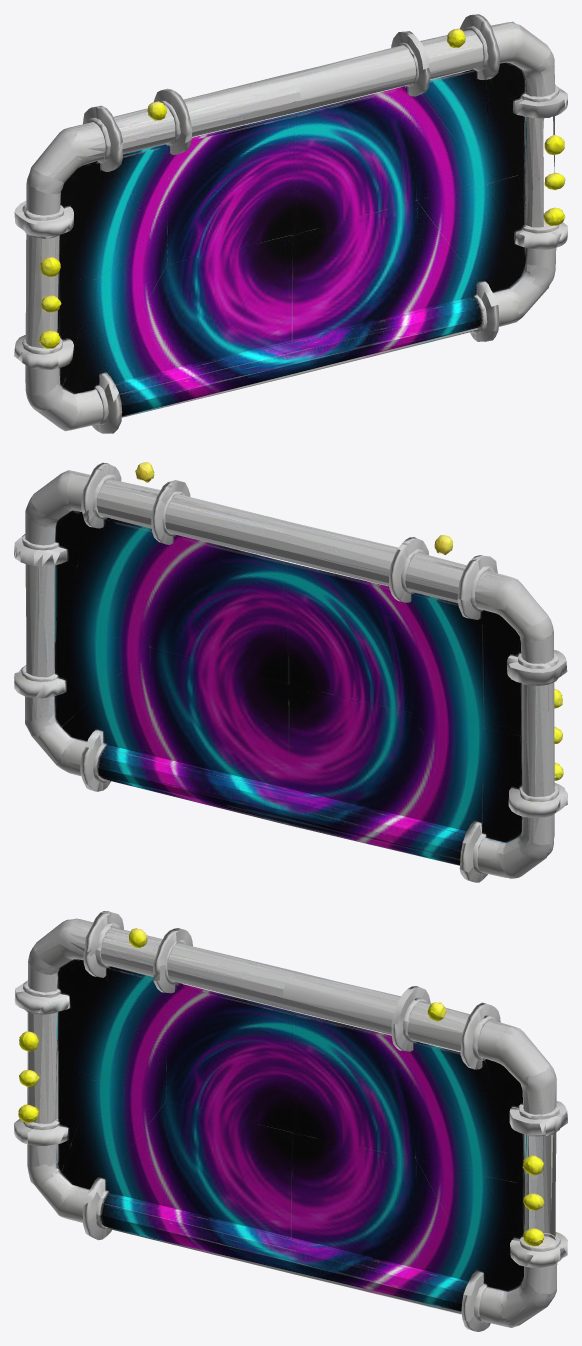
Rendered from portal-frame.glb.
3 renders of one model, top to bottom at view 1: azimuth 30°, elevation 25°; view 2: azimuth 150°, elevation 25°; view 3: azimuth 330°, elevation 25°, orthographic.
Bounding box in the file's own units: 1 × 0.5781 × 0.1089.
1 material, 1 textured.
